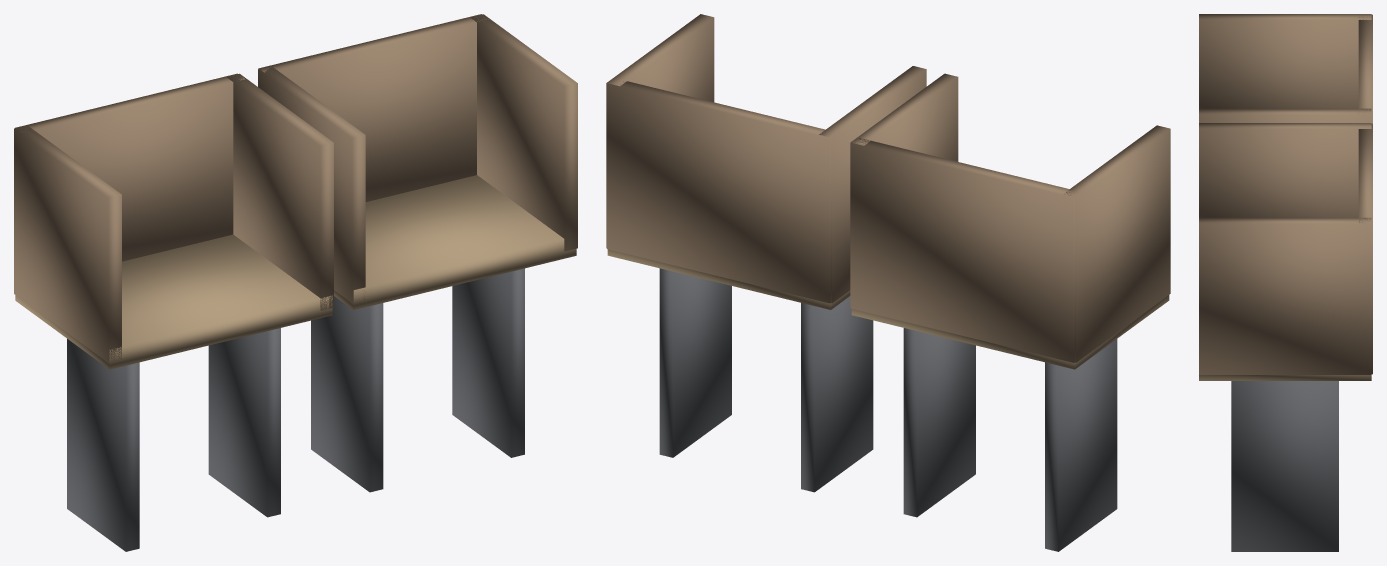
Rendered from study_carrel__cluster.glb.
3 renders of one model, left to right at view 1: azimuth 30°, elevation 25°; view 2: azimuth 150°, elevation 25°; view 3: azimuth 270°, elevation 25°, orthographic. The views are drawn at different scales.
Parts seen in each view (by area): view 1: world; view 2: world; view 3: world.
Part boxes in pixels (bbox=[...]): world: bbox=[14, 14, 577, 551]; world: bbox=[606, 14, 1170, 551]; world: bbox=[1199, 14, 1372, 551].
Size of the model in its own units: 1.73 by 1.32 by 0.605.
